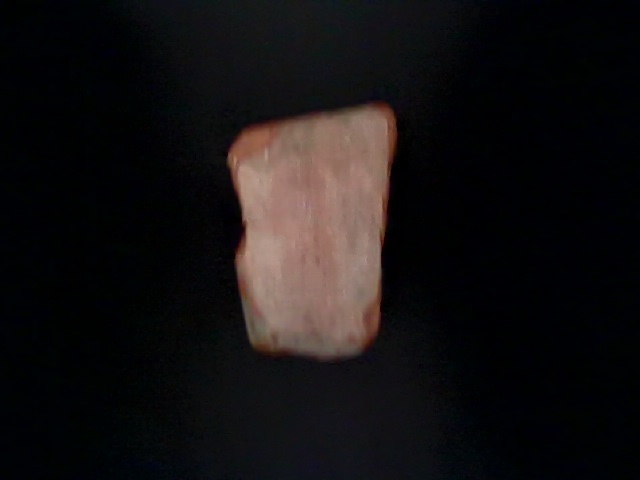KHSLJ: (1, 1, 260, 419)
